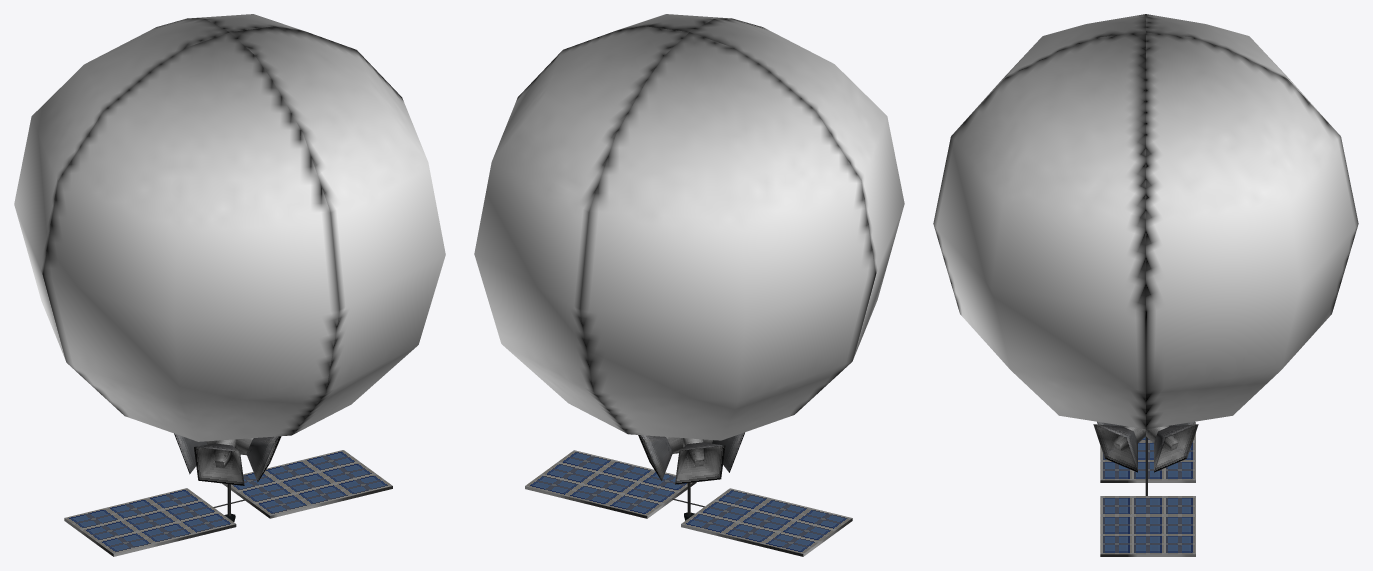
The model's file is SpyBalloon.fbx.
3 renders of one model, left to right at view 1: azimuth 30°, elevation 25°; view 2: azimuth 150°, elevation 25°; view 3: azimuth 270°, elevation 25°, orthographic. The views are drawn at different scales.
Visible parts, largest first — view 1: Spy_Balloon; view 2: Spy_Balloon; view 3: Spy_Balloon.
Boxes of the visible parts, <box> form: Spy_Balloon: <box>14,14,445,556</box>; Spy_Balloon: <box>474,14,904,556</box>; Spy_Balloon: <box>933,14,1358,556</box>.
Size of the model in its own units: 1292 by 1616 by 1313.
